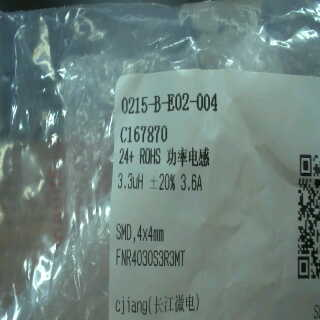3.3uH: (116, 170, 148, 193)
